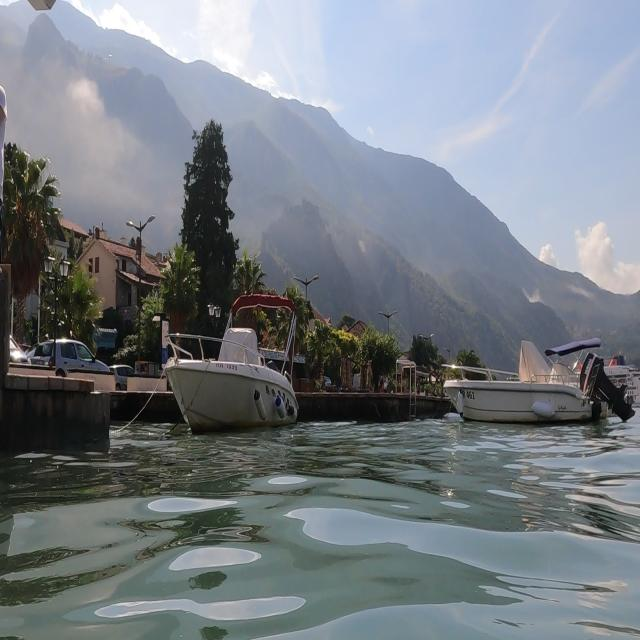boat: (440, 329, 640, 440), (162, 290, 302, 436)
